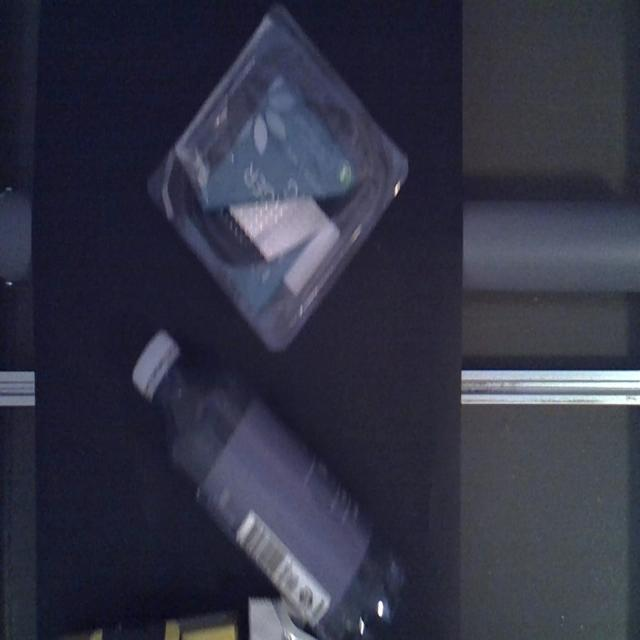bottle-plastic: (130, 327, 407, 636)
mixed-plastics: (146, 5, 413, 356)
